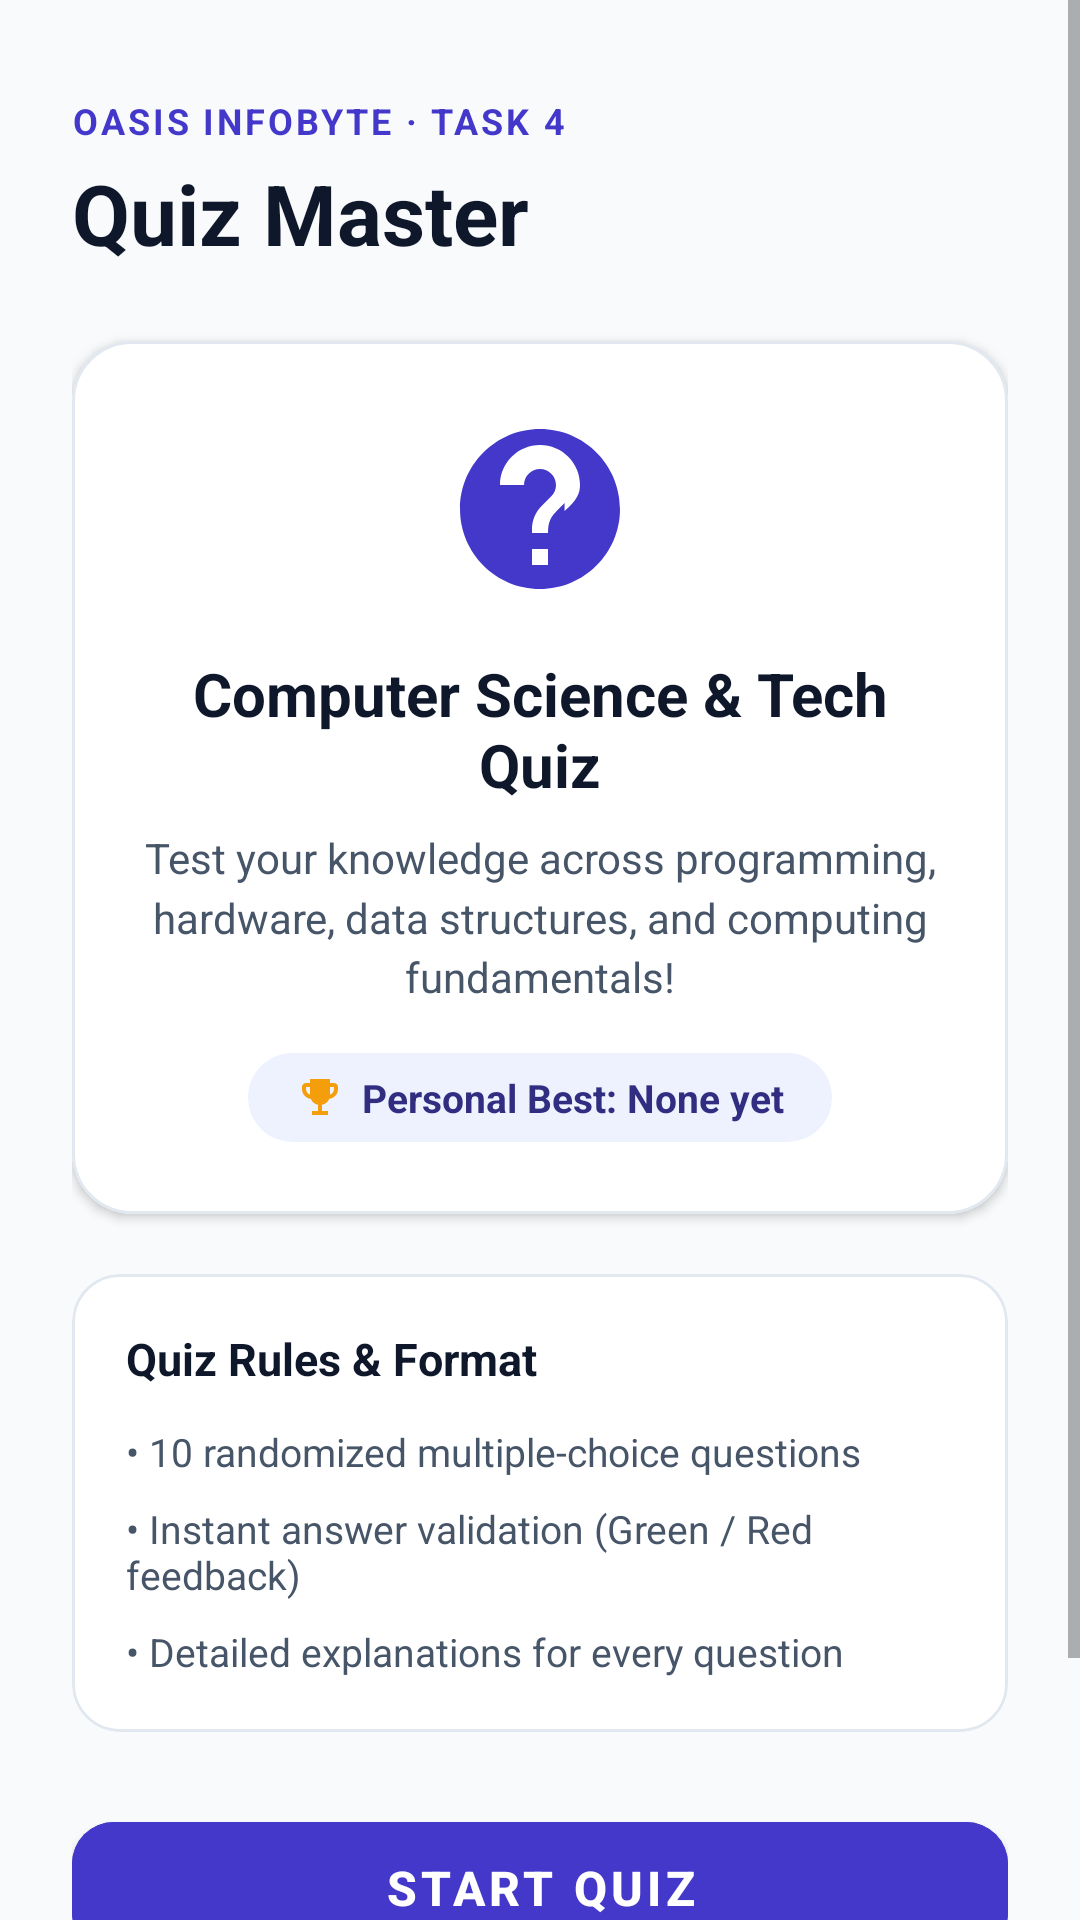

Named icons in this screenshot (1080x1920) and their centers, [x,y]:
Trophy: [320,1097]
